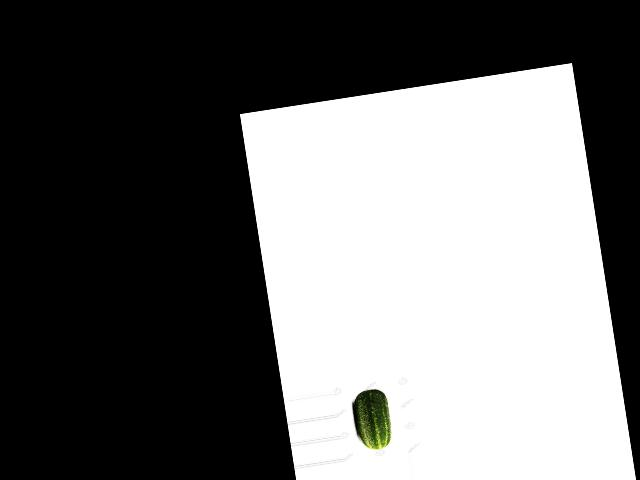cucumber: (350, 386, 394, 451)
